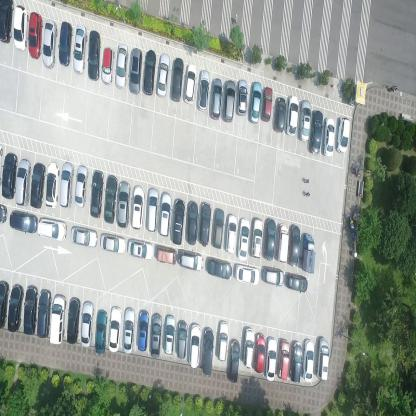car: (49, 293, 67, 346), (0, 151, 18, 199), (7, 283, 24, 332), (42, 17, 58, 69), (23, 285, 39, 336), (27, 10, 43, 60), (36, 288, 52, 338), (89, 169, 105, 218), (15, 157, 31, 206), (103, 173, 118, 225), (37, 217, 67, 243), (44, 160, 60, 208), (30, 162, 46, 210), (13, 4, 29, 51), (87, 29, 101, 82), (59, 160, 74, 209), (73, 23, 87, 75), (116, 180, 131, 228), (58, 20, 73, 67), (70, 224, 98, 249), (8, 209, 38, 232), (107, 306, 122, 352), (128, 46, 142, 95), (114, 42, 128, 91), (80, 299, 94, 348), (142, 48, 156, 96), (198, 200, 212, 248), (172, 198, 186, 246), (227, 336, 241, 384), (67, 296, 81, 344), (130, 186, 145, 230), (156, 51, 170, 98), (264, 335, 278, 382), (285, 95, 300, 138), (275, 221, 290, 264), (170, 56, 184, 102), (145, 188, 159, 234), (188, 324, 202, 370), (300, 234, 316, 274), (309, 109, 323, 154), (0, 0, 14, 45), (74, 163, 88, 208), (315, 337, 329, 382), (94, 308, 108, 353), (100, 231, 126, 255), (122, 307, 135, 355), (127, 238, 154, 261), (298, 98, 312, 142), (222, 79, 236, 123), (197, 68, 211, 112), (250, 215, 264, 259), (301, 338, 315, 382), (252, 332, 267, 373), (287, 224, 301, 267), (289, 341, 303, 384), (263, 216, 276, 262), (238, 216, 251, 262), (206, 257, 232, 280), (322, 116, 336, 158), (202, 326, 214, 375), (149, 312, 162, 357), (276, 340, 290, 381), (241, 328, 255, 369), (178, 249, 204, 271), (137, 308, 150, 352), (186, 198, 198, 245), (183, 64, 197, 104), (159, 190, 171, 236), (234, 264, 259, 286), (225, 213, 238, 255), (216, 320, 229, 362), (163, 314, 176, 356), (250, 80, 262, 125), (211, 76, 223, 121), (101, 44, 114, 85), (336, 117, 350, 155), (262, 265, 285, 287), (212, 207, 224, 249), (176, 318, 188, 360), (273, 96, 286, 134), (0, 280, 10, 329), (236, 77, 248, 116), (287, 271, 308, 293), (261, 86, 273, 122), (156, 244, 177, 264)
